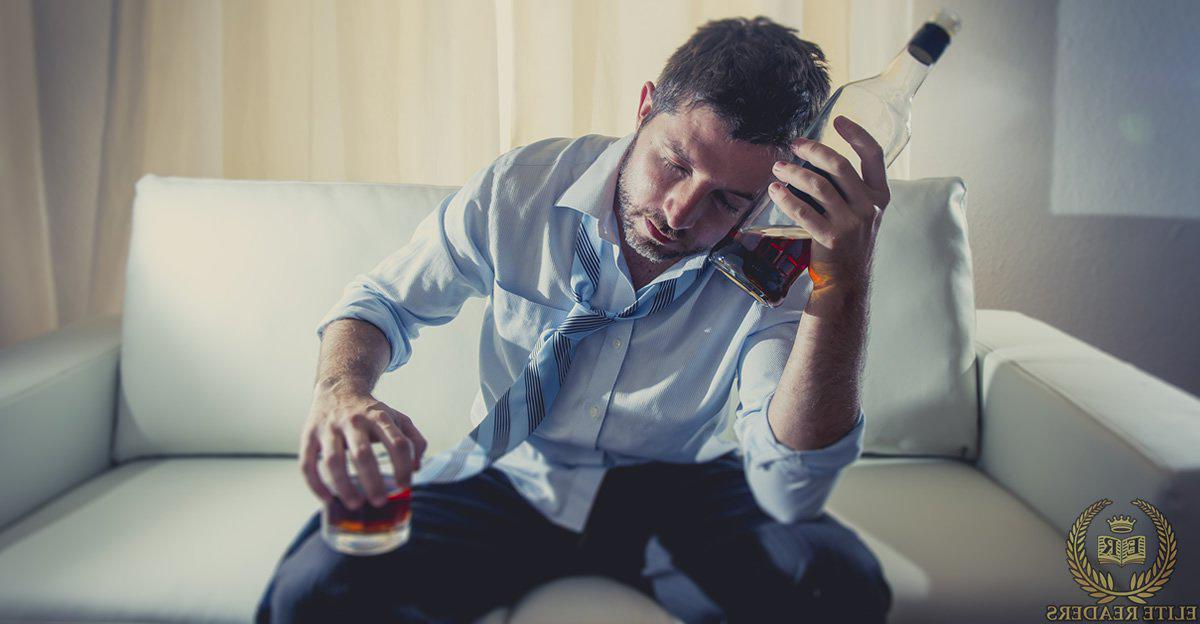Drunk: (621, 106, 770, 256)
